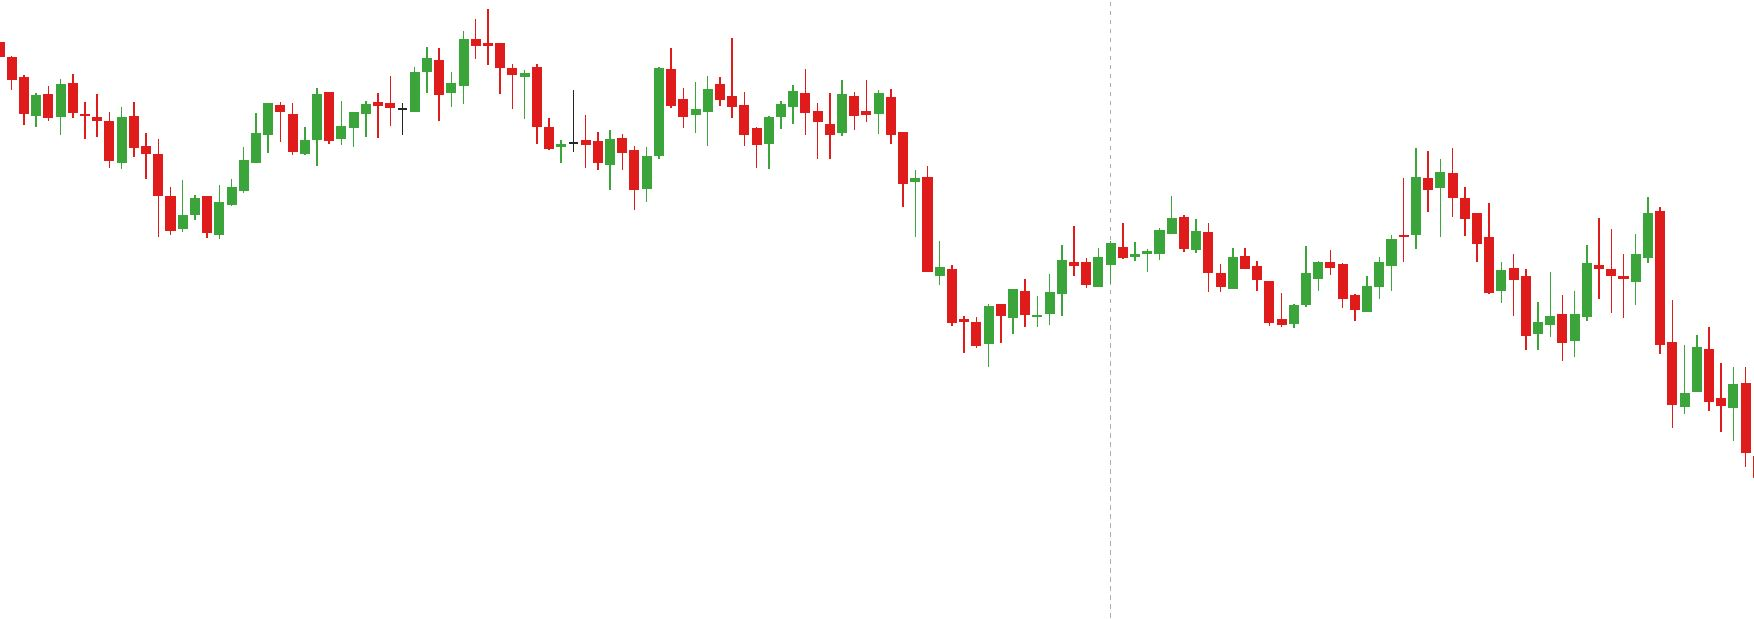sell: (664, 36, 737, 130), (1592, 198, 1667, 280)
